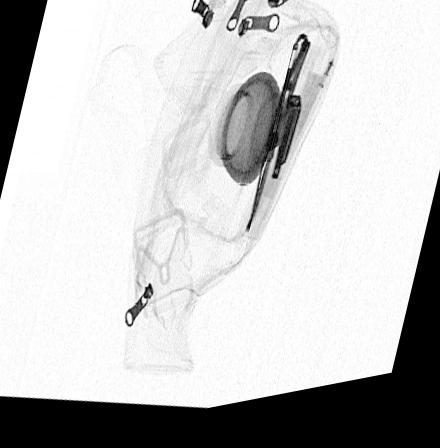Knife: (244, 43, 311, 241)
